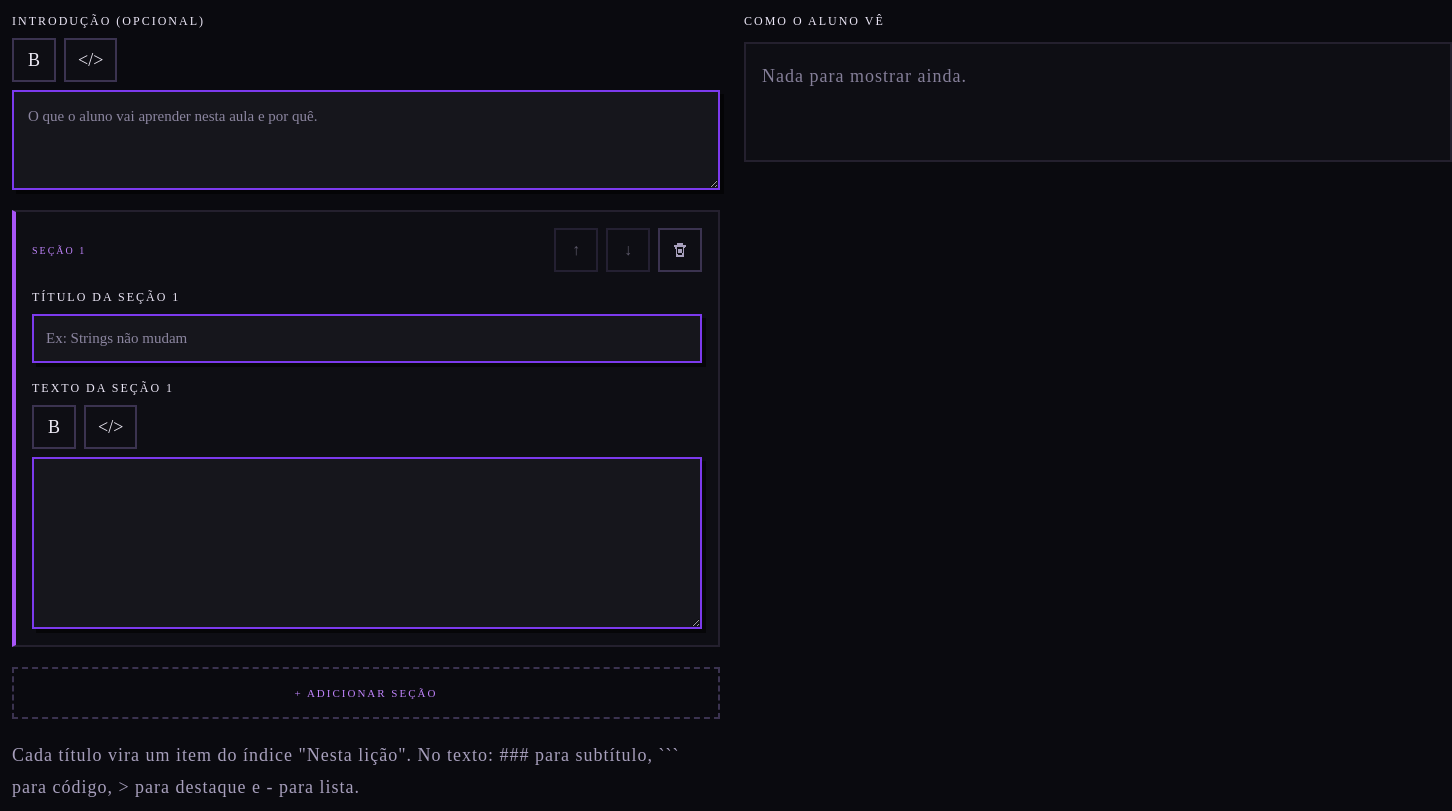
EditorDeSecoes › seção com texto e sem título não fica completa e avisa o autor
Type "Sem título." into the text box labelled "TEXTO DA SEÇÃO 1".
click(367, 542); type("Sem título.")  # box [32,456,702,628]
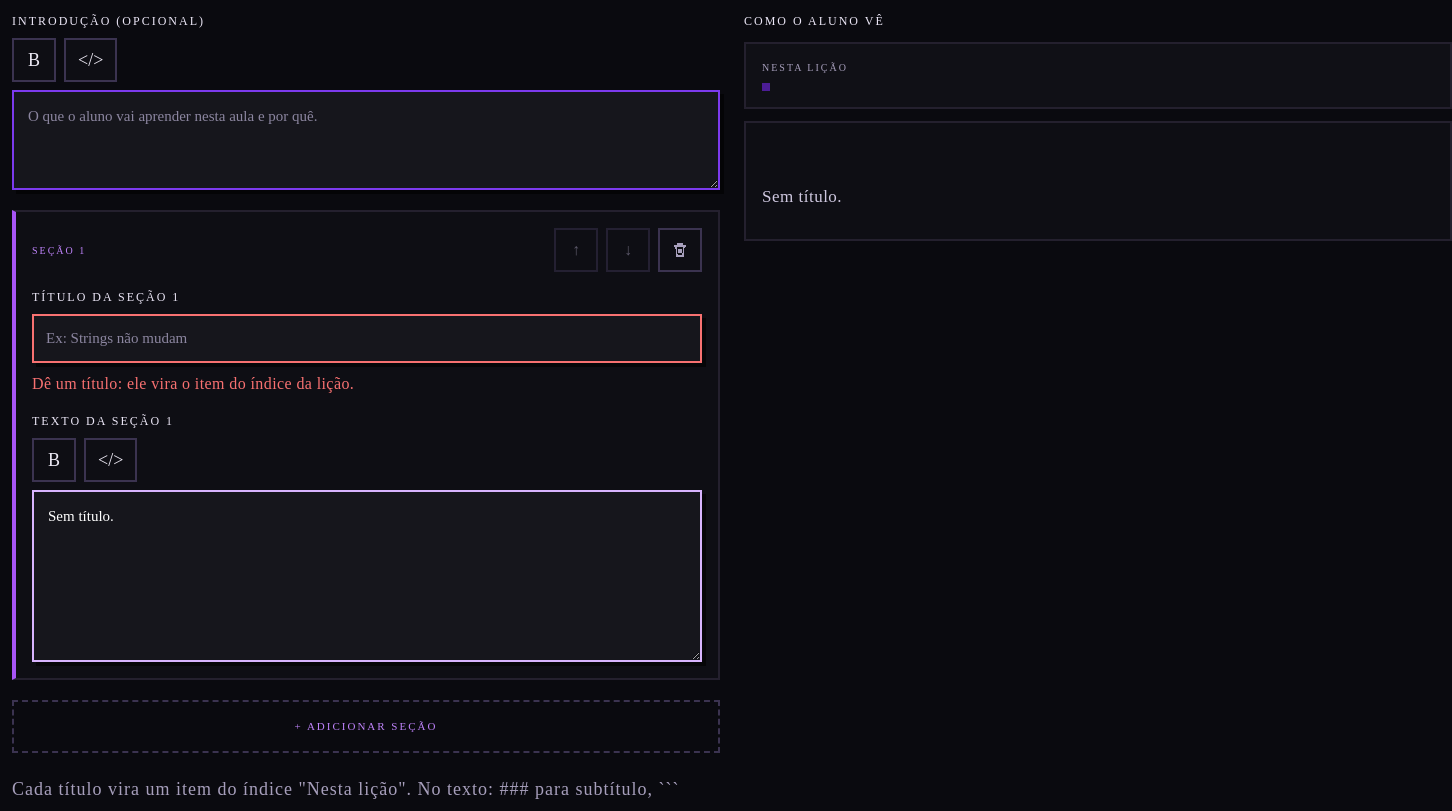
Now the text "Dê um título: ele vira o item do índice da lição." is shown, box [32,374,354,392]
